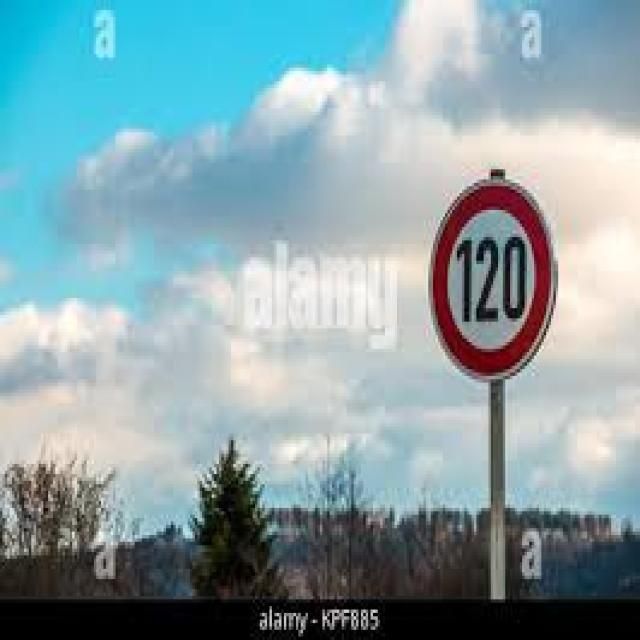SPEED_LIMIT_120: (424, 168, 563, 383)
